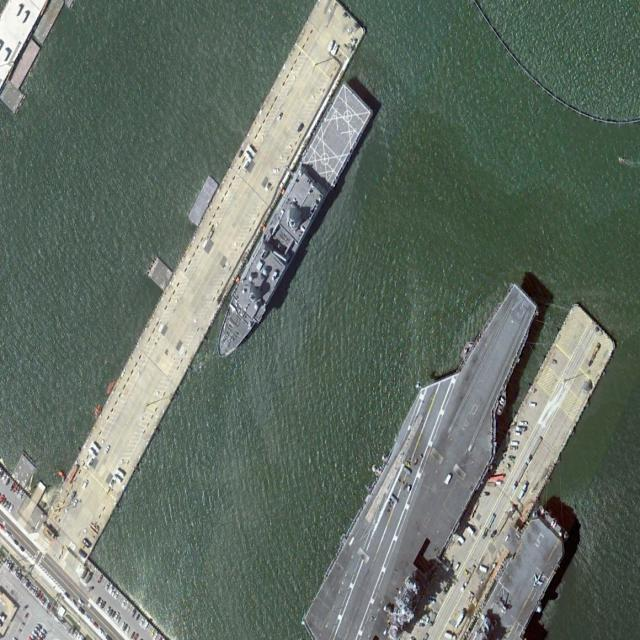Aircraft Carrier: (304, 256, 560, 640)
Auxiliary Ships: (204, 77, 374, 374)
